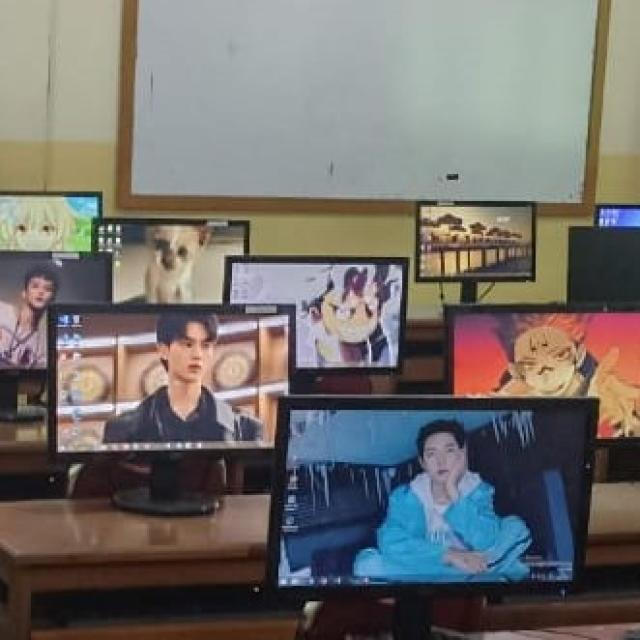offscreen: (568, 228, 640, 301)
onscreen: (272, 399, 596, 586), (54, 308, 289, 452), (450, 309, 640, 437), (226, 259, 407, 369), (98, 219, 249, 303), (0, 252, 109, 368), (416, 202, 535, 282), (0, 192, 101, 252), (596, 205, 640, 227)
